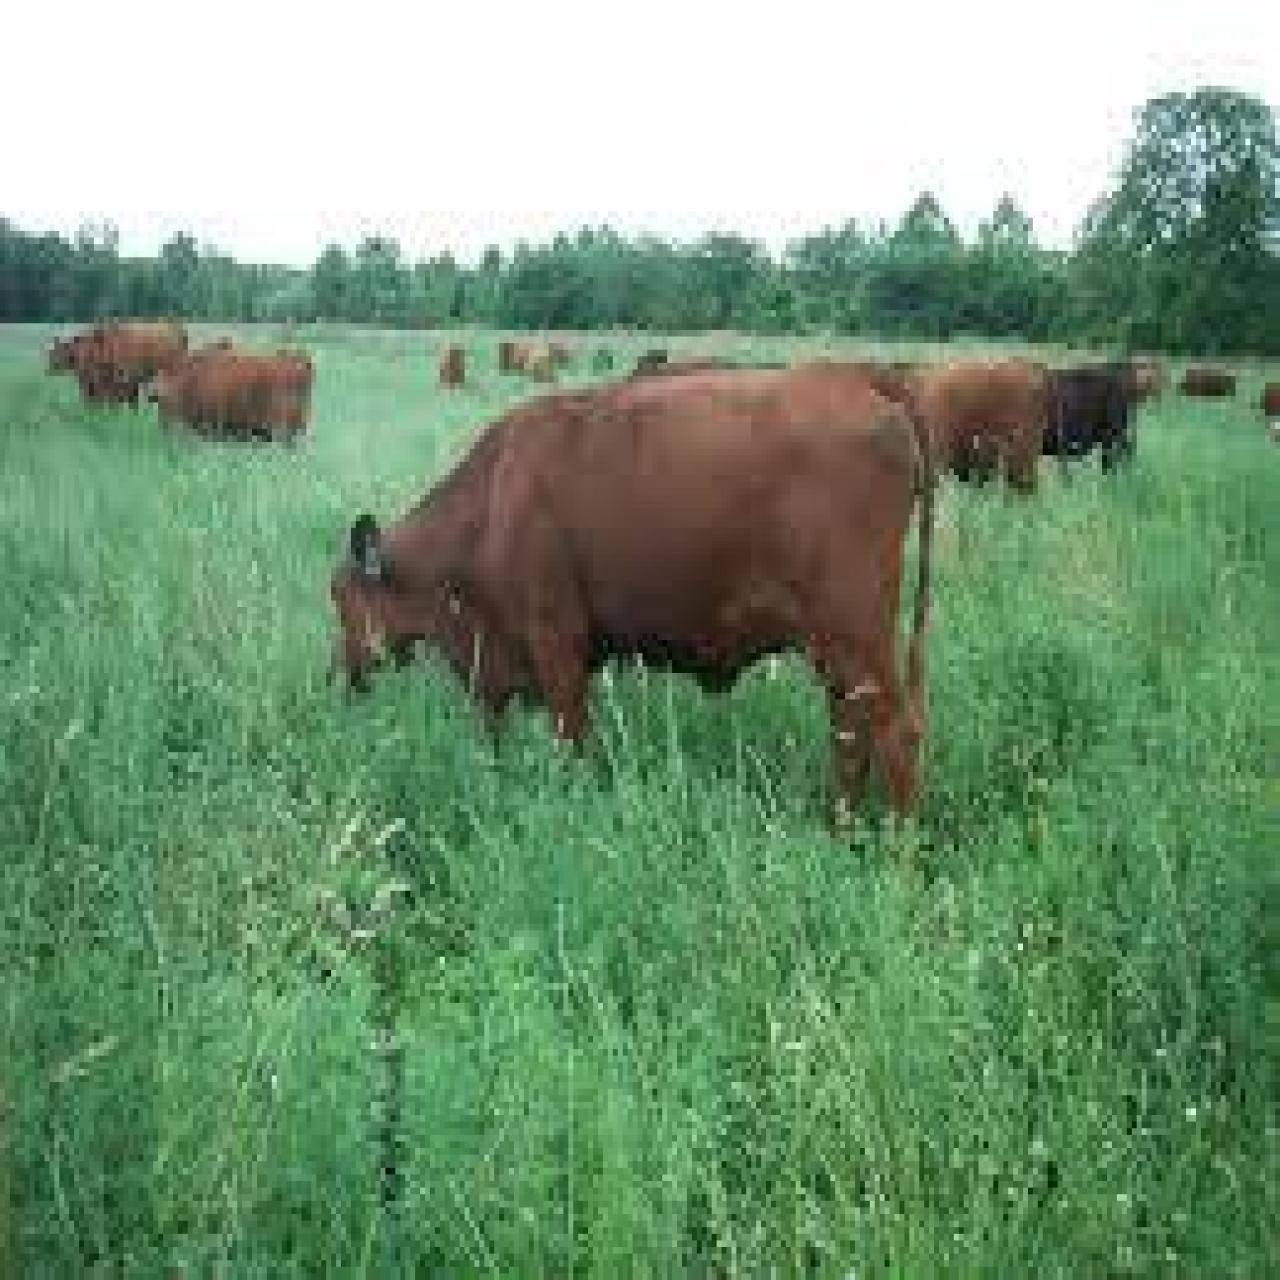cow: (334, 363, 937, 838), (872, 356, 1041, 495), (149, 343, 312, 449), (1035, 356, 1139, 475), (47, 320, 181, 406)
